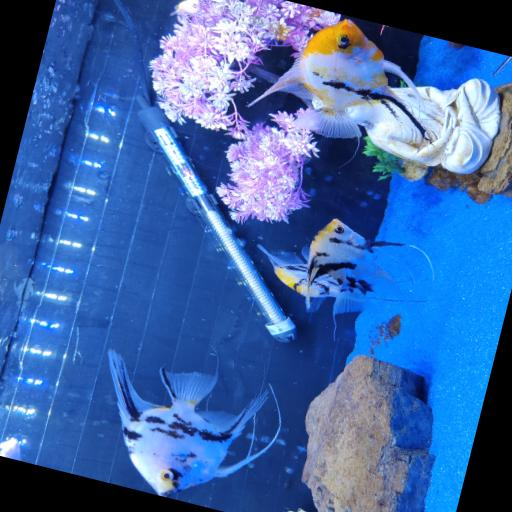Fish: (109, 349, 279, 496), (249, 19, 425, 137), (306, 218, 403, 317), (258, 244, 339, 311), (171, 0, 200, 19), (0, 437, 21, 460), (381, 25, 386, 34)
